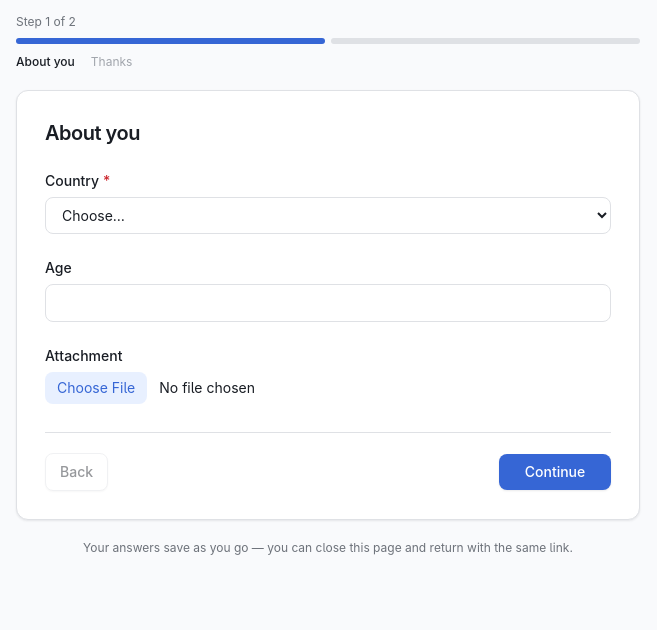
required fields › blocks the step and names how many answers are outstanding
The image size is (657, 630).
Expected: the heading "About you" is shown, [45,121,140,145]
Click the button "Continue" at [555, 472], box [499,454,611,490]
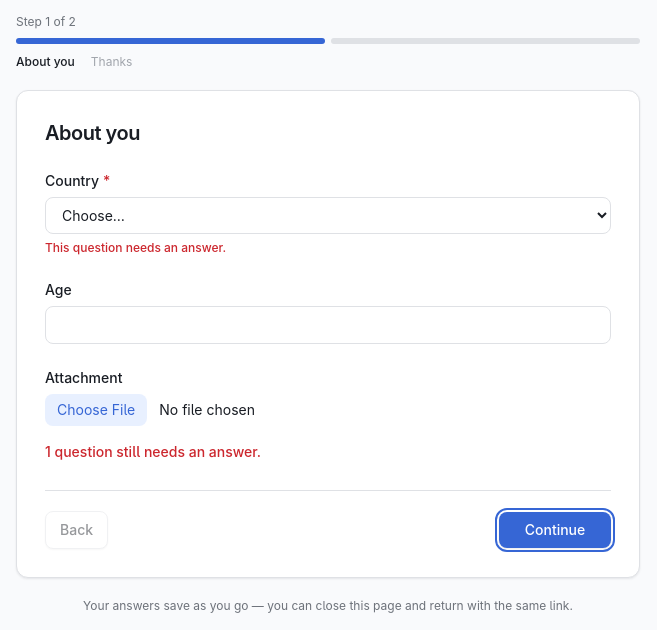
Expected: the text "1 question still needs an answer." is shown, [45,443,261,460]
Expected: the text "This question needs an answer." is shown, [45,240,226,255]
